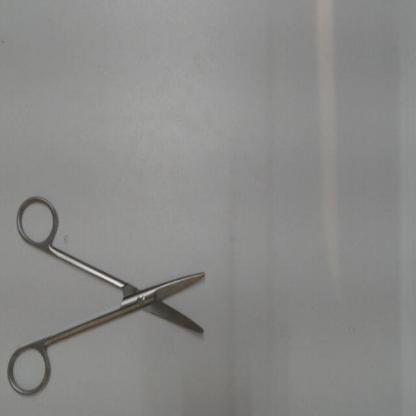Curved Mayo Scissors: (5, 188, 210, 400)
